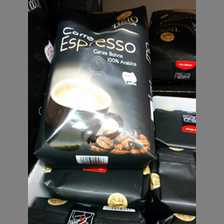coffee: (37, 4, 157, 171)
